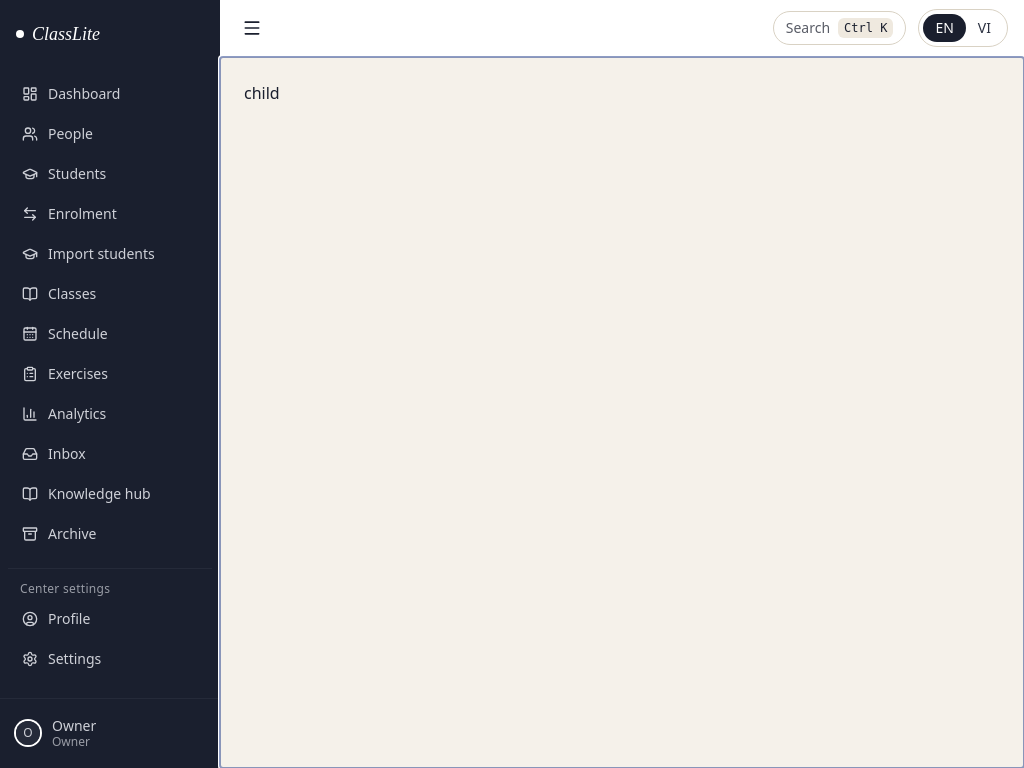
it: SearchPalette ↔ AppLayout wiring (AC1, AC2) › clicking the topbar SearchPill opens the palette (AC2)
The width and height of the screenshot is (1024, 768).
What coordinates should you click on to do the following:
click the button with test id "search-pill"
I would click on:
 (840, 28)
Its box is [773,11,906,45].
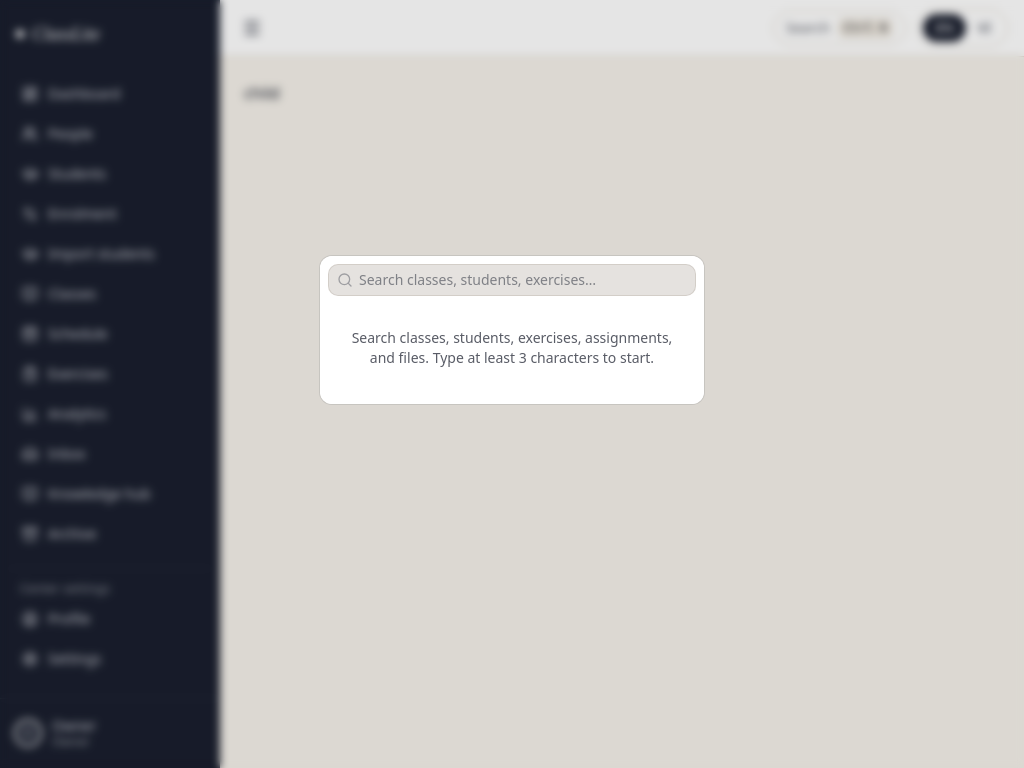
Expected: the dialog is shown, [320,256,704,404]
